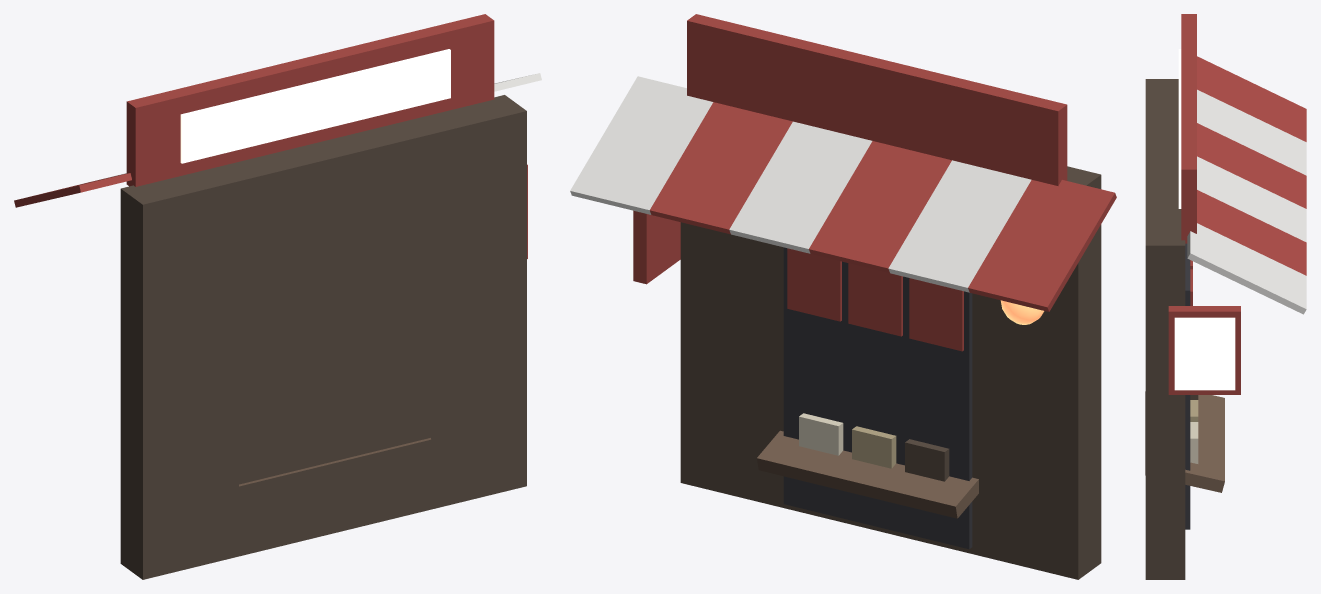
Rendered from prop_mise_hakimono.glb.
3 views of the same model, side by side, from view 1: azimuth 30°, elevation 25°; view 2: azimuth 150°, elevation 25°; view 3: azimuth 270°, elevation 25° (orthographic). The views are drawn at different scales.
Parts seen in each view (by area): view 1: mise_hakimono; view 2: mise_hakimono; view 3: mise_hakimono.
Part boxes in pixels (x1=…): mise_hakimono: x1=14, y1=14, x2=541, y2=579; mise_hakimono: x1=570, y1=14, x2=1116, y2=579; mise_hakimono: x1=1145, y1=14, x2=1306, y2=579.
Bounding box in the file's own units: 3.6 × 3.39 × 1.23.
